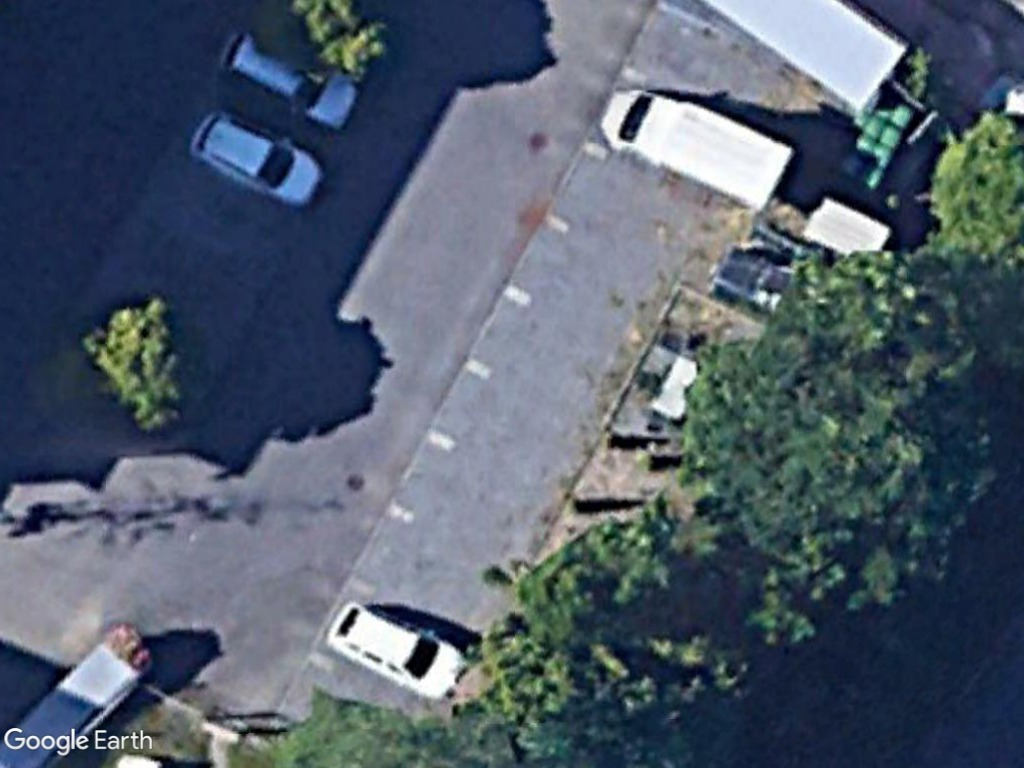car: (328, 599, 469, 704), (189, 109, 326, 209)
van: (598, 86, 799, 215)
